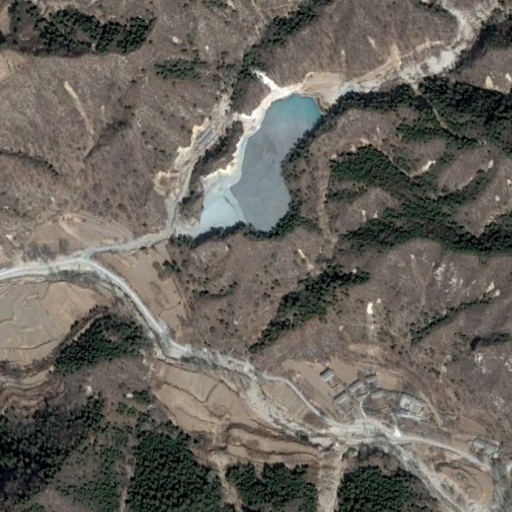tp: (197, 90, 324, 239)
